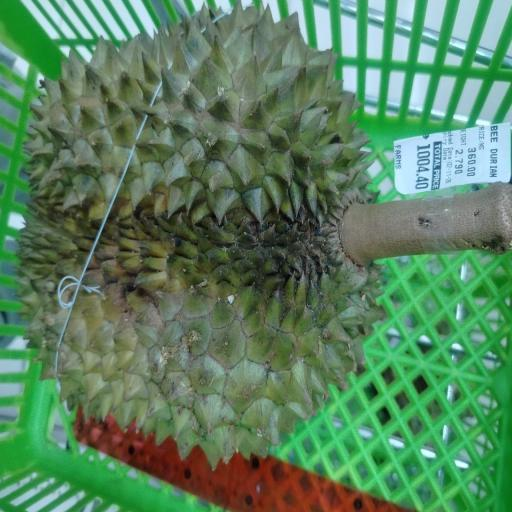rot: (3, 0, 512, 512)
